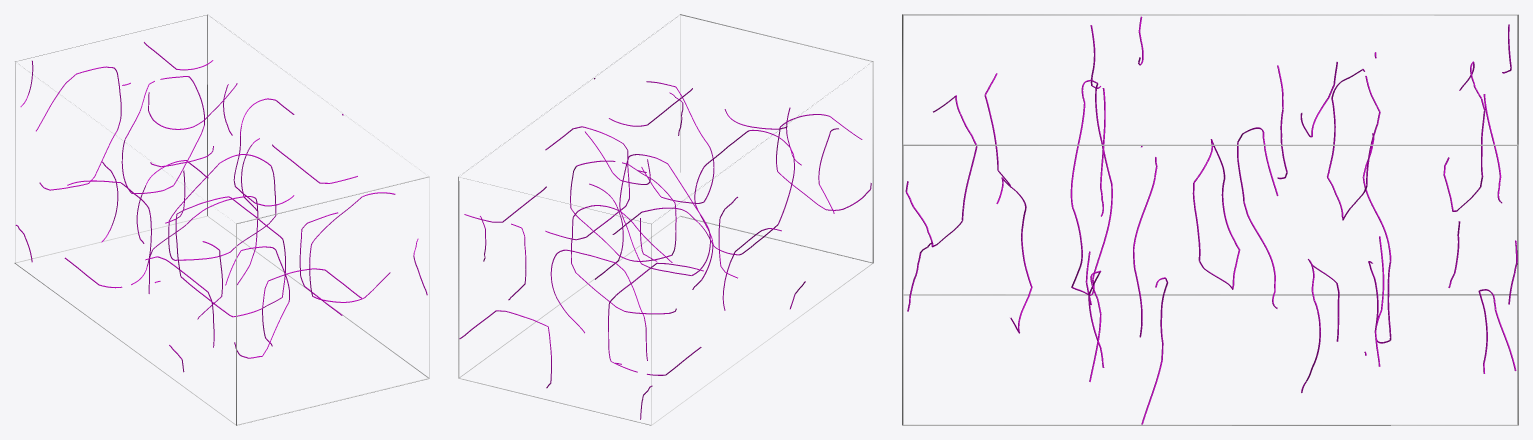
3 renders of one model, left to right at view 1: azimuth 30°, elevation 25°; view 2: azimuth 150°, elevation 25°; view 3: azimuth 270°, elevation 25°, orthographic. The views are drawn at different scales.
Visible parts, largest first — view 1: Shape_IndexedLineSet.001, Shape_IndexedLineSet; view 2: Shape_IndexedLineSet.001, Shape_IndexedLineSet; view 3: Shape_IndexedLineSet.001, Shape_IndexedLineSet.
Boxes of the visible parts, x1=… form: Shape_IndexedLineSet.001: x1=15, y1=42, x2=427, y2=372; Shape_IndexedLineSet: x1=14, y1=14, x2=429, y2=425; Shape_IndexedLineSet.001: x1=459, y1=78, x2=871, y2=419; Shape_IndexedLineSet: x1=458, y1=14, x2=873, y2=425; Shape_IndexedLineSet.001: x1=905, y1=16, x2=1517, y2=424; Shape_IndexedLineSet: x1=902, y1=14, x2=1518, y2=425.
Bounding box in the file's own units: 235 × 235 × 467.
